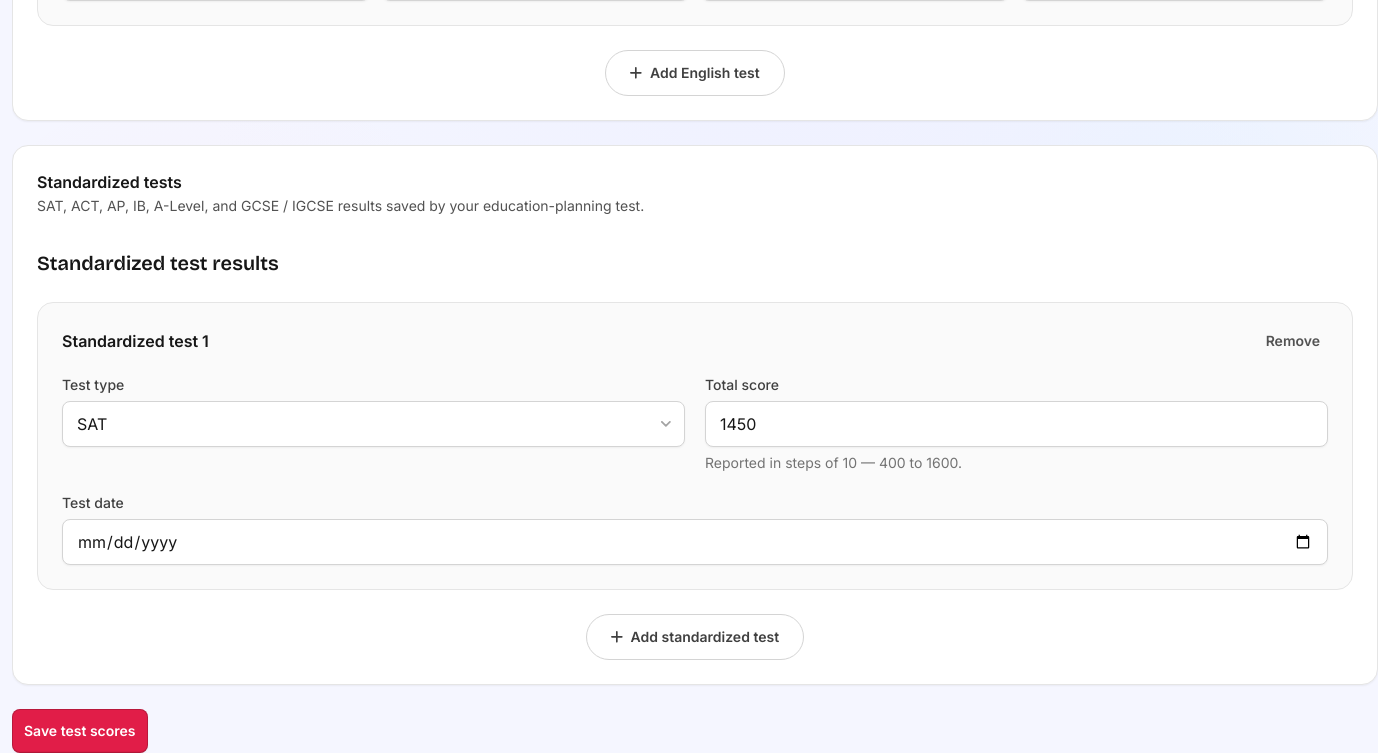
Test case: profile editors for onboarding answers › updates both English and standardized test rows
(page scrolled)
expect the field labelled "Total score" holds "1450": met, box x1=705 y1=401 x2=1328 y2=447
Click the button "Save test scores" at (80, 731), box x1=12 y1=709 x2=148 y2=752
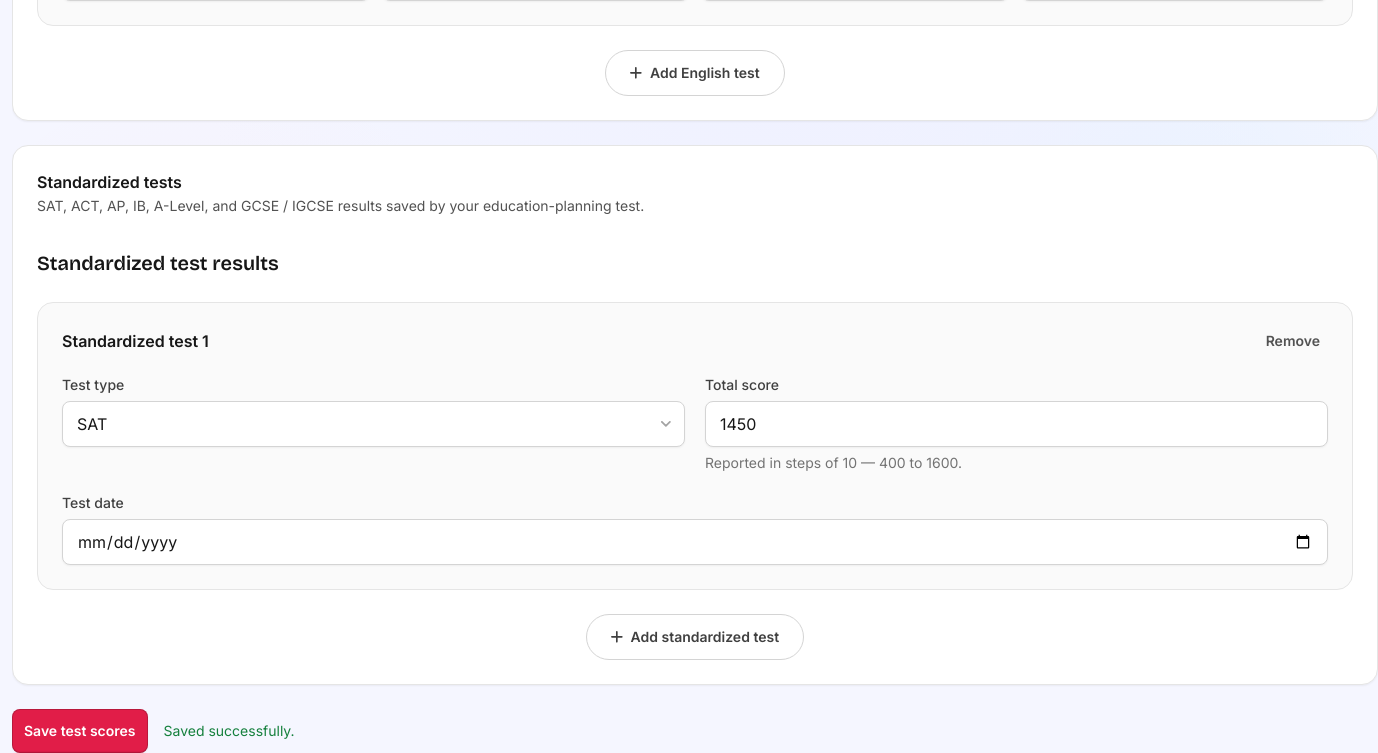
expect the text "Saved successfully." is shown: met, box x1=164 y1=721 x2=295 y2=741
